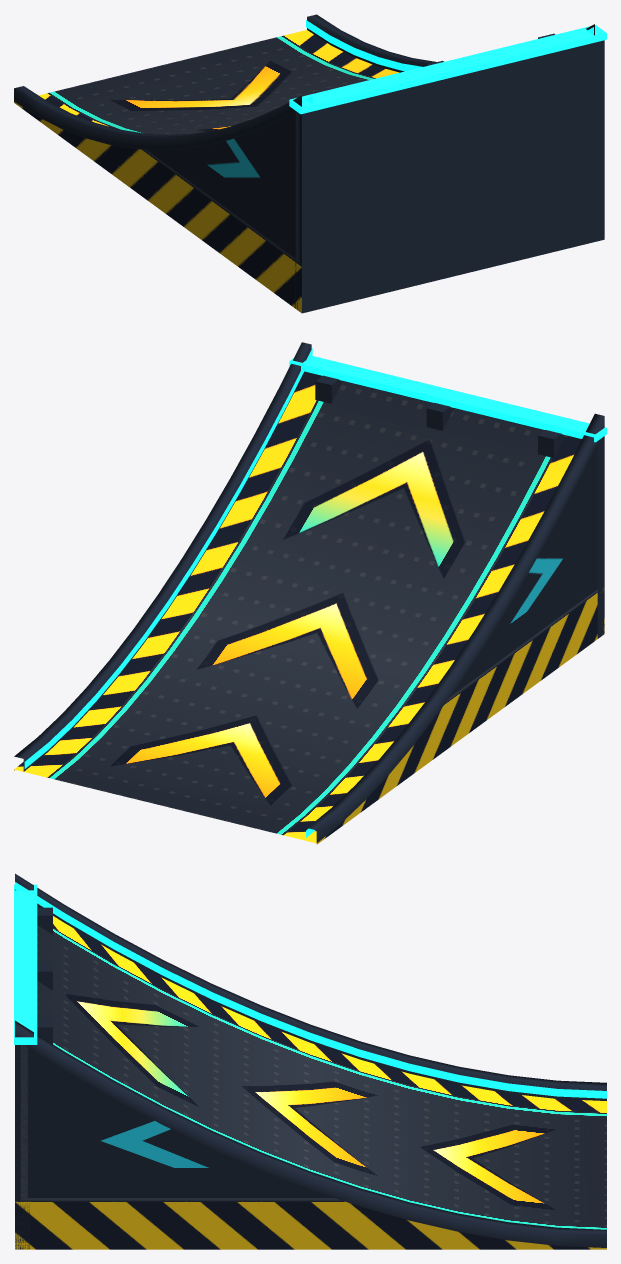
Rendered from double_ramp.glb.
The picture shows the model from 3 angles, top to bottom: view 1: azimuth 30°, elevation 25°; view 2: azimuth 150°, elevation 25°; view 3: azimuth 270°, elevation 25°; orthographic projection. The views are drawn at different scales.
Visible parts, largest first — view 1: double_ramp, ramp_deck; view 2: ramp_deck, double_ramp; view 3: ramp_deck, double_ramp.
Part boxes in pixels (box(x1,y1,x2,y2)): double_ramp: box(14, 14, 606, 313); ramp_deck: box(39, 30, 399, 134); ramp_deck: box(14, 372, 581, 843); double_ramp: box(14, 342, 606, 844); ramp_deck: box(37, 906, 606, 1229); double_ramp: box(14, 873, 606, 1249).
Size of the model in its own units: 3.44 by 2.34 by 5.61.
4 materials, 2 textured.
